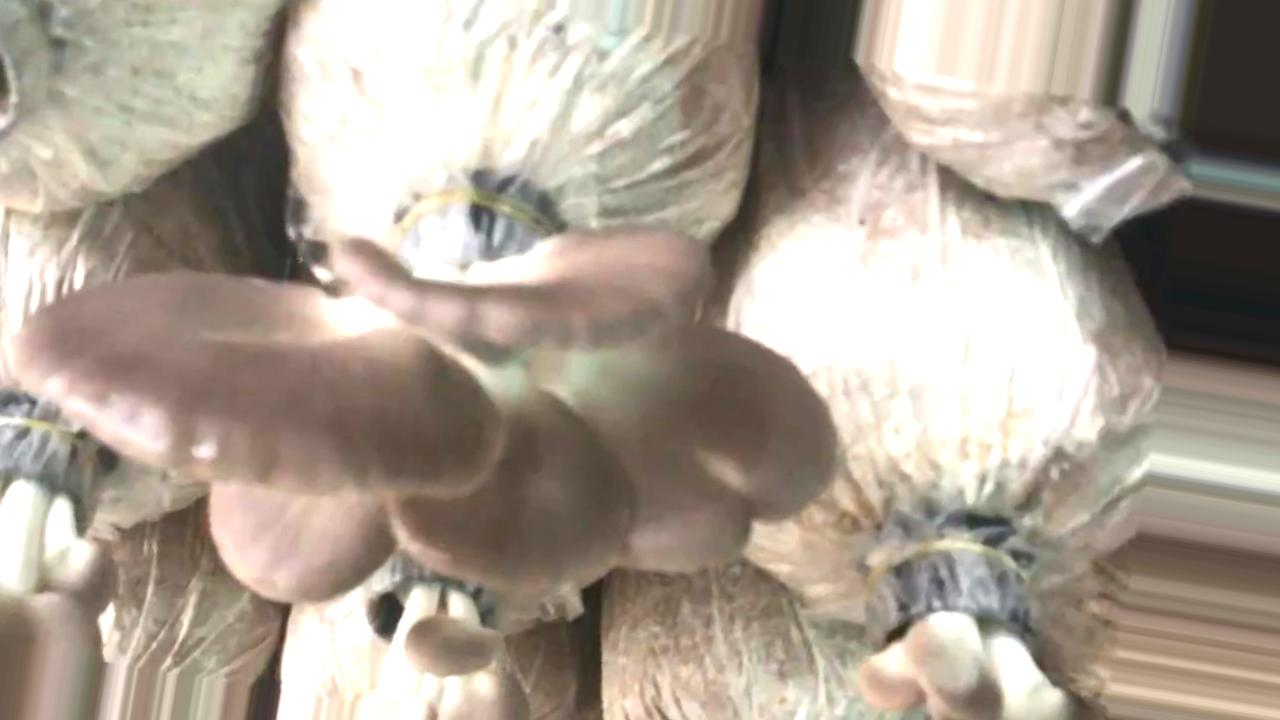nam: (1, 170, 845, 613), (850, 517, 1070, 720), (361, 549, 527, 720)
